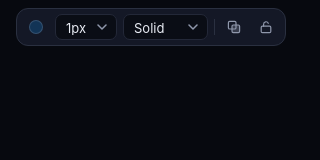
DrawingStyleBar › the lock toggle locks / unlocks the selected drawing; a locked drawing is read-only except the toggle
The width and height of the screenshot is (320, 160).
Later steps or results of the test are not shown.
Click the button named "Lock drawing" at (266, 27), box [253,14,279,40]
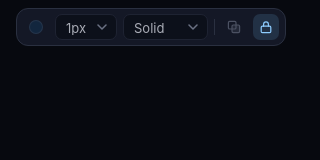
Expected: the dropdown named "Line width" is disabled, [55,14,117,40]
Expected: the dropdown named "Line style" is disabled, [123,14,208,40]
Expected: the button named "Drawing color" is disabled, [23,14,49,40]
